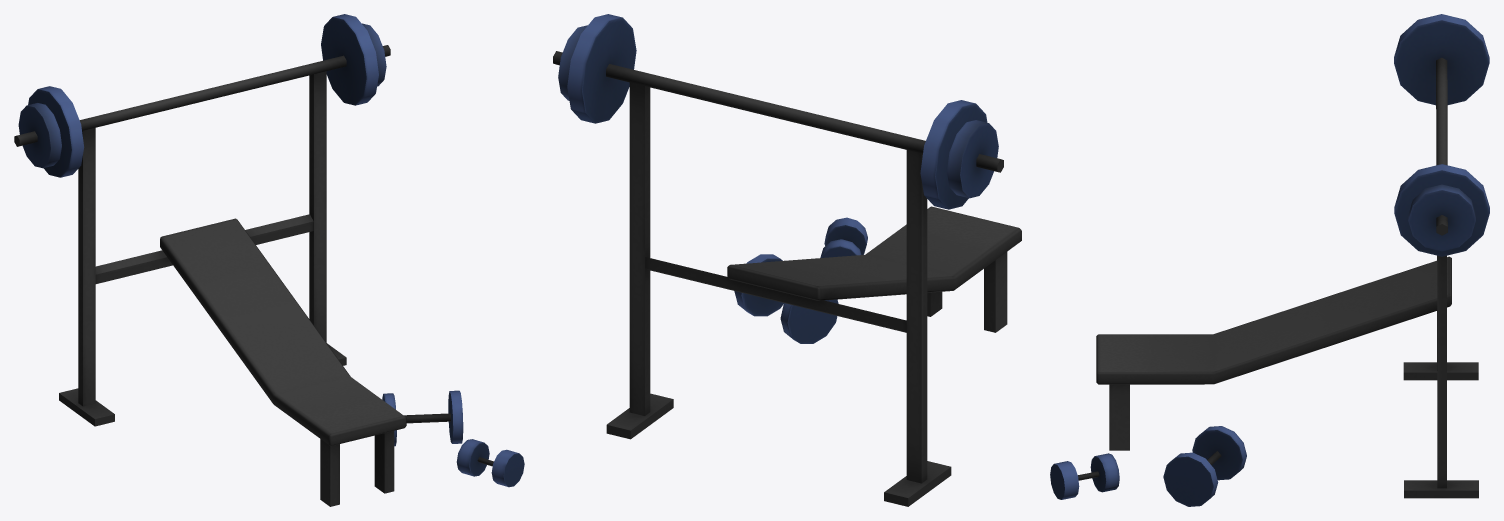
File: gym.fbx
3 renders of one model, left to right at view 1: azimuth 30°, elevation 25°; view 2: azimuth 150°, elevation 25°; view 3: azimuth 270°, elevation 25°, orthographic. The views are drawn at different scales.
Visible parts, largest first — view 1: gym; view 2: gym; view 3: gym.
Boxes of the visible parts, box(x1,y1,x2,y2) form: gym: box(14, 14, 524, 506); gym: box(553, 14, 1021, 506); gym: box(1050, 14, 1489, 506).
Size of the model in its own units: 1.18 by 1 by 1.16.
